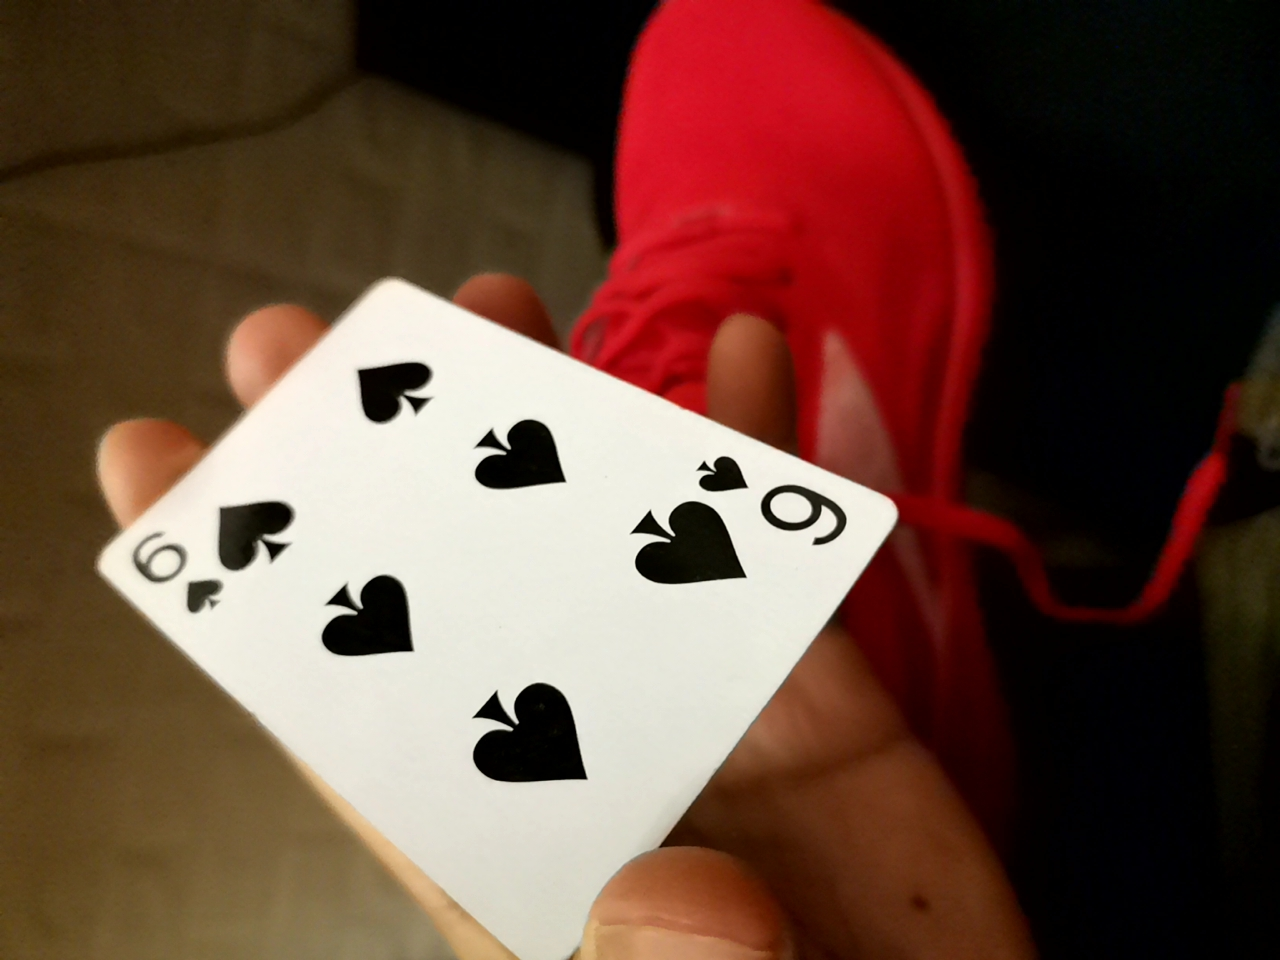ht 6: (70, 229, 909, 955)
